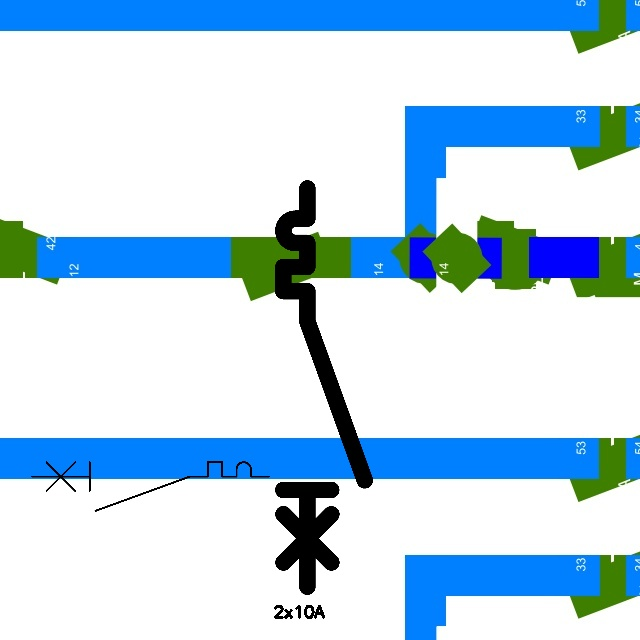interruptor_termomagnetico: (273, 178, 375, 597), (26, 456, 275, 517)
